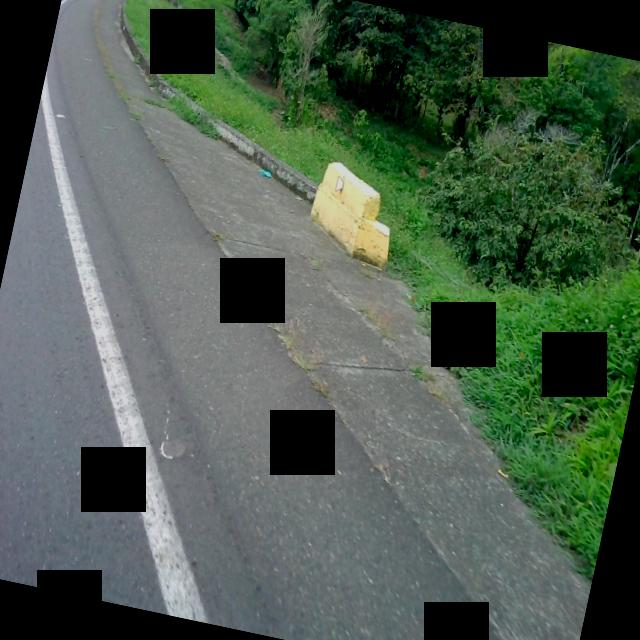DITCH: (0, 0, 640, 640), (38, 139, 640, 640)
